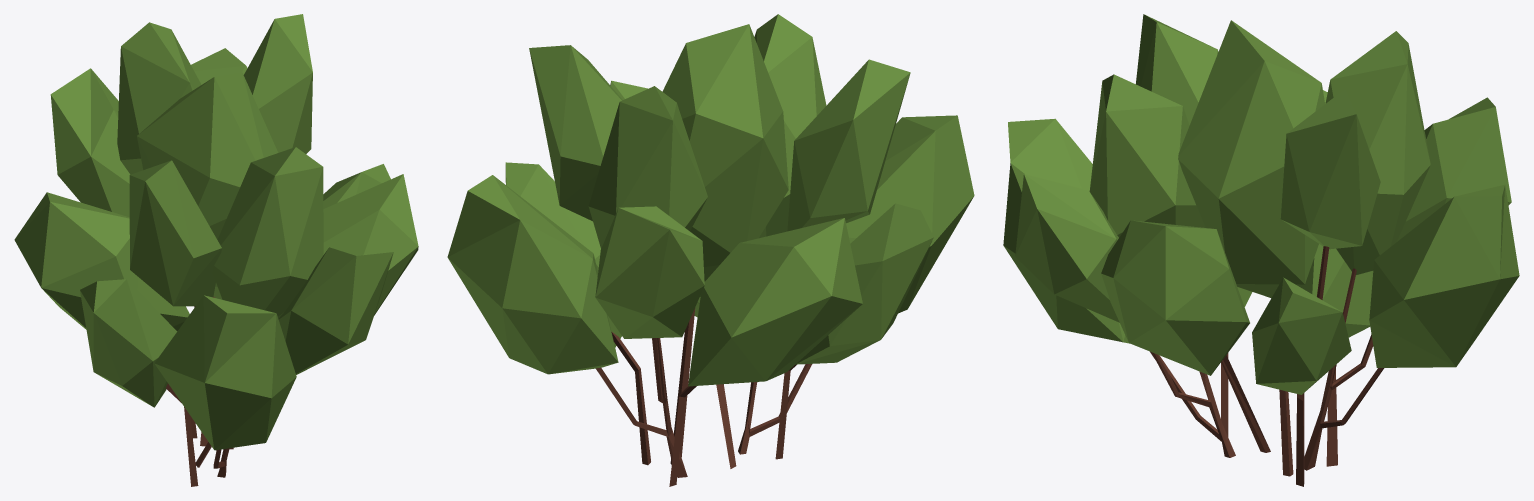
Rendered from mountain_ash_3.fbx.
3 renders of one model, left to right at view 1: azimuth 30°, elevation 25°; view 2: azimuth 150°, elevation 25°; view 3: azimuth 270°, elevation 25°, orthographic. The views are drawn at different scales.
Parts seen in each view (by area): view 1: mountain_ash_3; view 2: mountain_ash_3; view 3: mountain_ash_3.
Part boxes in pixels (x1,y1,x2,y2): mountain_ash_3: (14, 14, 418, 486); mountain_ash_3: (447, 14, 974, 486); mountain_ash_3: (1003, 14, 1519, 486).
Size of the model in its own units: 193 by 210 by 228.
